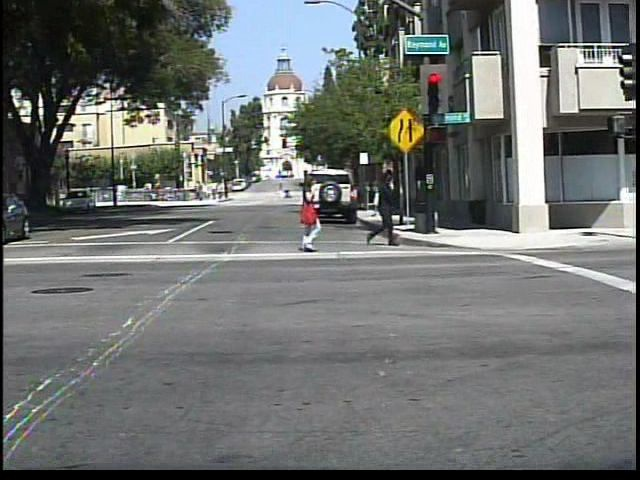person: (362, 168, 408, 250), (291, 167, 332, 251), (284, 186, 295, 204)
